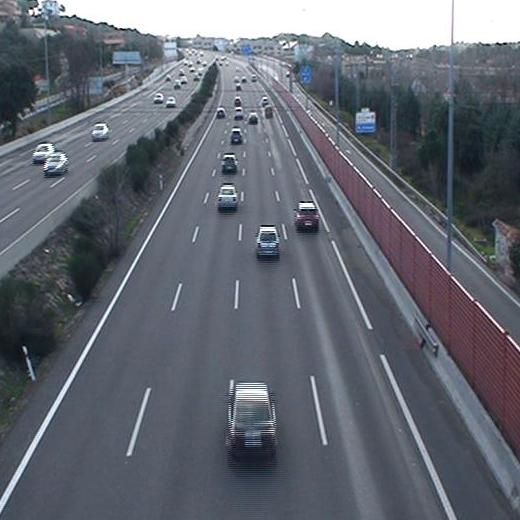car: (221, 376, 284, 469), (251, 221, 284, 264), (290, 199, 323, 237), (213, 181, 242, 216), (218, 150, 239, 177), (227, 125, 244, 145), (230, 105, 247, 121), (215, 106, 228, 120), (232, 95, 244, 108), (260, 92, 271, 104)
van: (262, 104, 276, 121)
